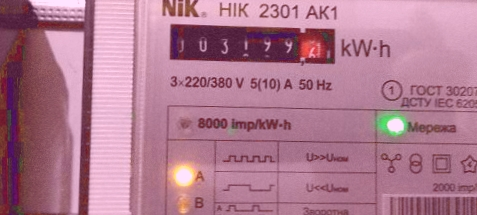0: (172, 32, 185, 53), (195, 32, 208, 52)
1: (239, 31, 250, 50)
3: (217, 35, 229, 54)
6: (306, 42, 317, 59)
9: (260, 32, 272, 52), (281, 34, 293, 53)
screen: (161, 16, 344, 72)
